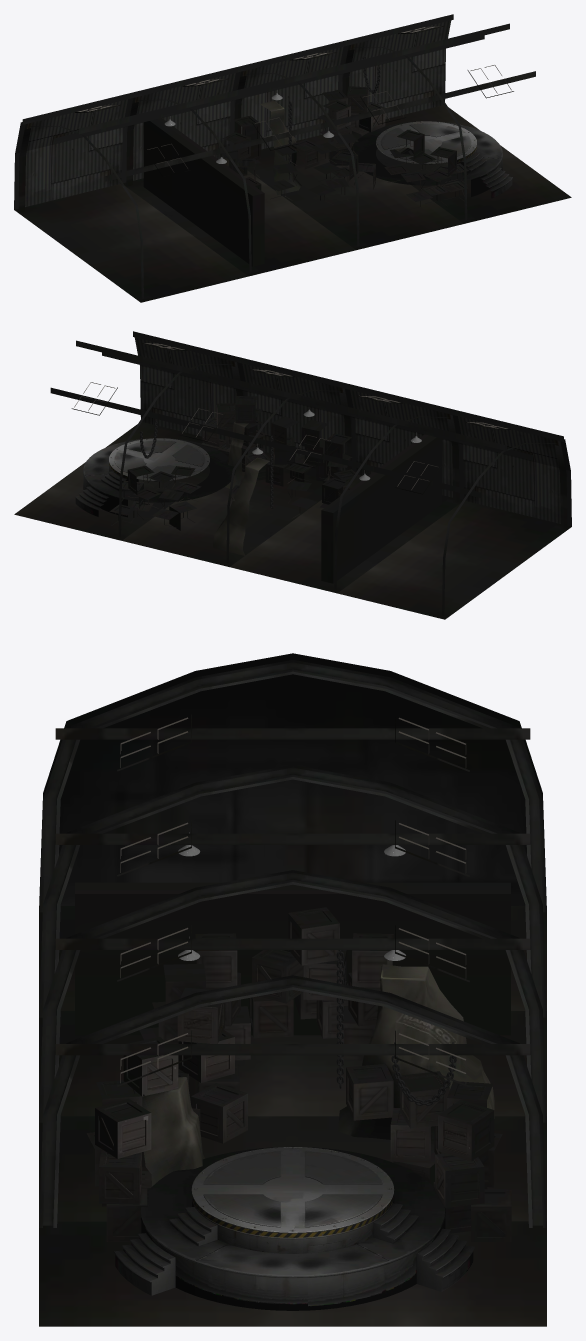
3 renders of one model, top to bottom at view 1: azimuth 30°, elevation 25°; view 2: azimuth 150°, elevation 25°; view 3: azimuth 270°, elevation 25°, orthographic. The views are drawn at different scales.
Visible parts, largest first — view 1: body0_model0_lod0_mesh4, body0_model0_lod0_mesh0, body0_model0_lod0_mesh3, body0_model0_lod0_mesh1, body0_model0_lod0_mesh2; view 2: body0_model0_lod0_mesh4, body0_model0_lod0_mesh0, body0_model0_lod0_mesh3, body0_model0_lod0_mesh1, body0_model0_lod0_mesh2; view 3: body0_model0_lod0_mesh4, body0_model0_lod0_mesh0, body0_model0_lod0_mesh3, body0_model0_lod0_mesh2, body0_model0_lod0_mesh1.
Part boxes in pixels (<box>): body0_model0_lod0_mesh4: <box>14,14,571,302</box>; body0_model0_lod0_mesh0: <box>143,86,468,266</box>; body0_model0_lod0_mesh3: <box>351,121,512,190</box>; body0_model0_lod0_mesh1: <box>259,100,413,195</box>; body0_model0_lod0_mesh2: <box>377,121,512,198</box>; body0_model0_lod0_mesh4: <box>14,331,571,619</box>; body0_model0_lod0_mesh0: <box>109,396,442,583</box>; body0_model0_lod0_mesh3: <box>75,438,235,509</box>; body0_model0_lod0_mesh1: <box>213,421,269,555</box>; body0_model0_lod0_mesh2: <box>75,438,208,517</box>; body0_model0_lod0_mesh4: <box>39,653,546,1326</box>; body0_model0_lod0_mesh0: <box>75,882,511,1241</box>; body0_model0_lod0_mesh3: <box>114,1146,474,1280</box>; body0_model0_lod0_mesh2: <box>113,1147,474,1310</box>; body0_model0_lod0_mesh1: <box>142,964,494,1186</box>.
Size of the model in its own units: 1427 by 411 by 728.
6 materials, 6 textured.
